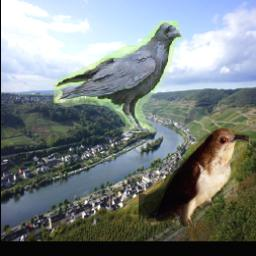Crow: (55, 21, 183, 132)
Cuckoo: (140, 127, 250, 227)
